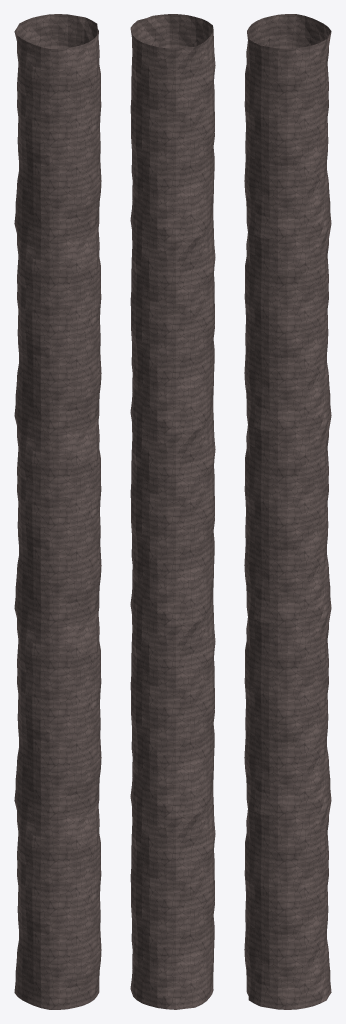
Rendered from Circle7Walls.obj.
The picture shows the model from 3 angles, left to right: view 1: azimuth 90°, elevation 25°; view 2: azimuth 210°, elevation 25°; view 3: azimuth 270°, elevation 25°; orthographic projection.
Visible parts, largest first — view 1: Circle7Walls; view 2: Circle7Walls; view 3: Circle7Walls.
Boxes of the visible parts, box(x1,y1,x2,y2) form: Circle7Walls: box(14, 14, 101, 1009); Circle7Walls: box(130, 14, 215, 1009); Circle7Walls: box(244, 14, 331, 1009).
Bounding box in the file's own units: 35.98 × 450 × 36.95.
1 material, 1 textured.
